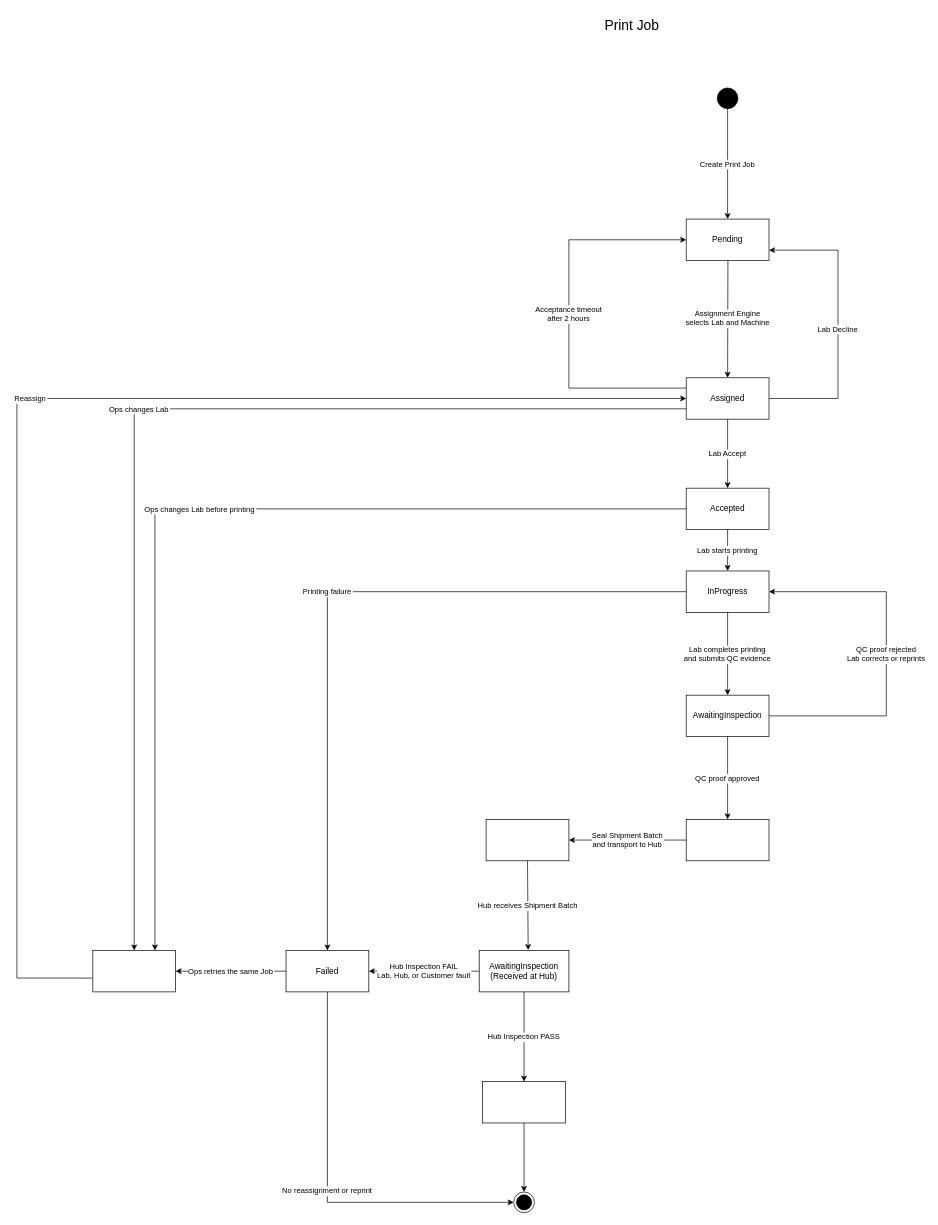
The diagram is 938 pixels wide and 1225 high, and some of its shapes have lost their labels. The box of each missing label's shape, as (x1, y1, x2, y2) in pixels:
Completed: (482, 1081, 565, 1123)
InTransit: (485, 819, 569, 861)
ReadyForShipment: (686, 819, 769, 861)
Reassigned: (92, 950, 176, 992)
